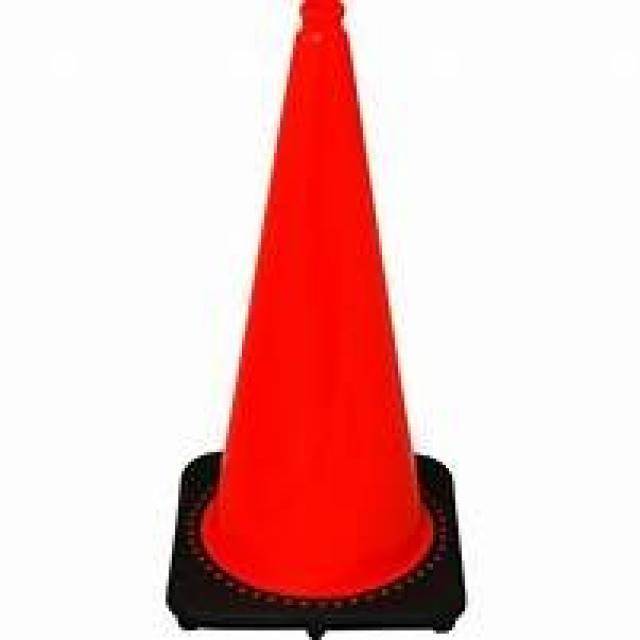traffic cone: (155, 1, 481, 640)
